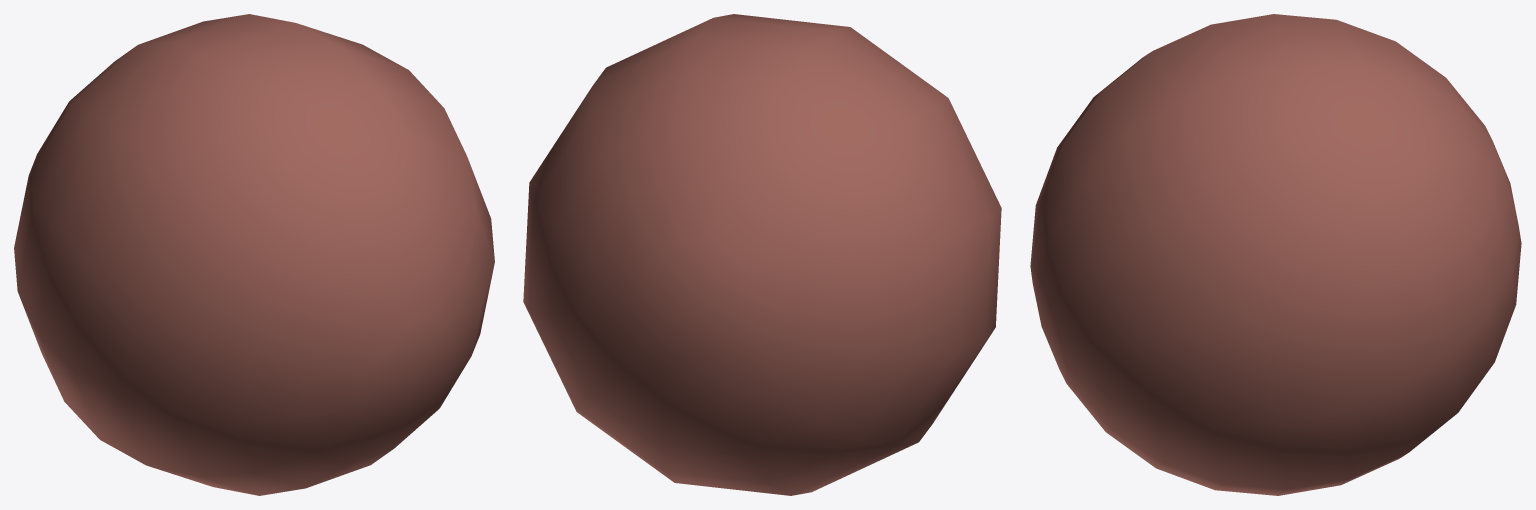
The model's file is mixamo_humanoid_joint_leftHandPinky2.fbx.
3 views of the same model, side by side, from view 1: azimuth 30°, elevation 25°; view 2: azimuth 150°, elevation 25°; view 3: azimuth 270°, elevation 25° (orthographic).
Visible parts, largest first — view 1: joint_LeftHandPinky2; view 2: joint_LeftHandPinky2; view 3: joint_LeftHandPinky2.
Boxes of the visible parts, x1,y1,x2,y2 form: joint_LeftHandPinky2: (14,14,494,495); joint_LeftHandPinky2: (523,14,1001,495); joint_LeftHandPinky2: (1030,14,1521,495).
Bounding box in the file's own units: 1.65 × 1.64 × 1.68.
